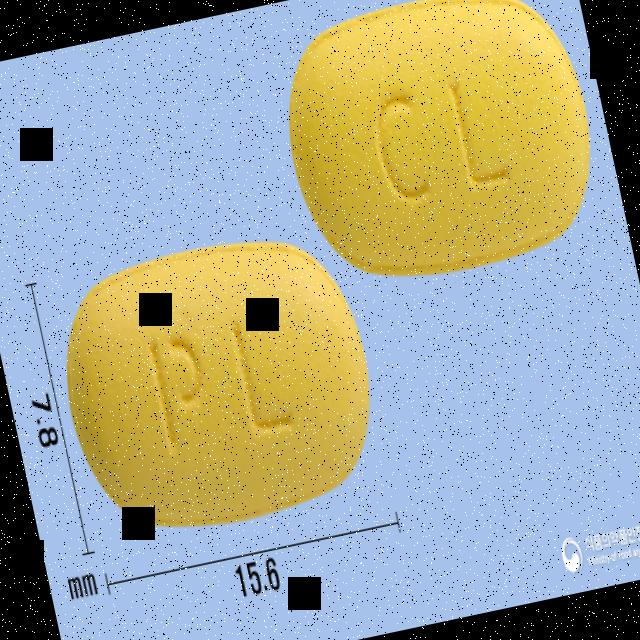Clathro: (37, 210, 397, 558), (265, 0, 618, 301)
